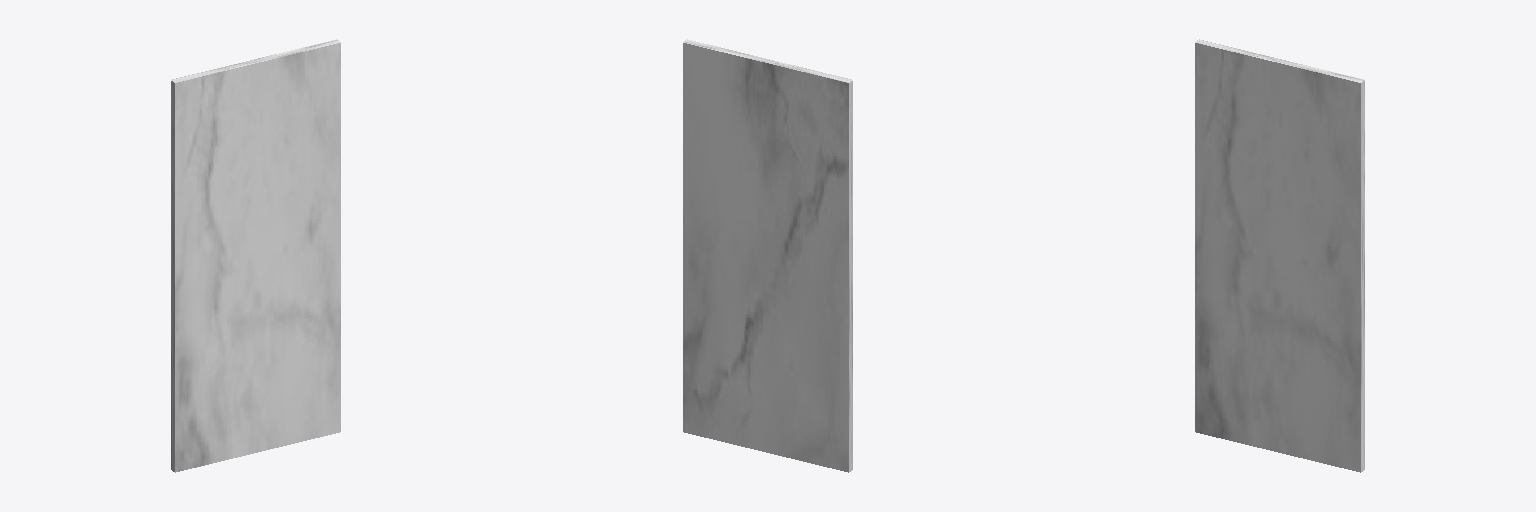
3 views of the same model, side by side, from view 1: azimuth 30°, elevation 25°; view 2: azimuth 150°, elevation 25°; view 3: azimuth 330°, elevation 25° (orthographic).
Parts seen in each view (by area): view 1: puertav3:grouppasted__pCube2 group; view 2: puertav3:grouppasted__pCube2 group; view 3: puertav3:grouppasted__pCube2 group.
Boxes of the visible parts, x1=… form: puertav3:grouppasted__pCube2 group: x1=171, y1=39, x2=340, y2=472; puertav3:grouppasted__pCube2 group: x1=683, y1=39, x2=852, y2=472; puertav3:grouppasted__pCube2 group: x1=1195, y1=39, x2=1364, y2=472.
Bounding box in the file's own units: 1.29 × 2.89 × 0.06.
1 materials, 1 textured.